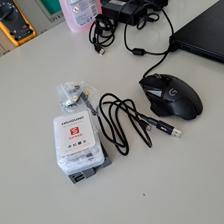mouse: (137, 72, 203, 121)
